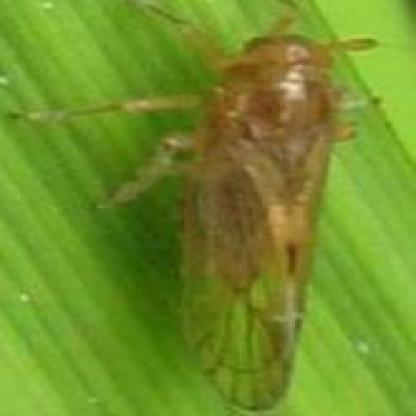brown-planthopper: (180, 23, 339, 405)
